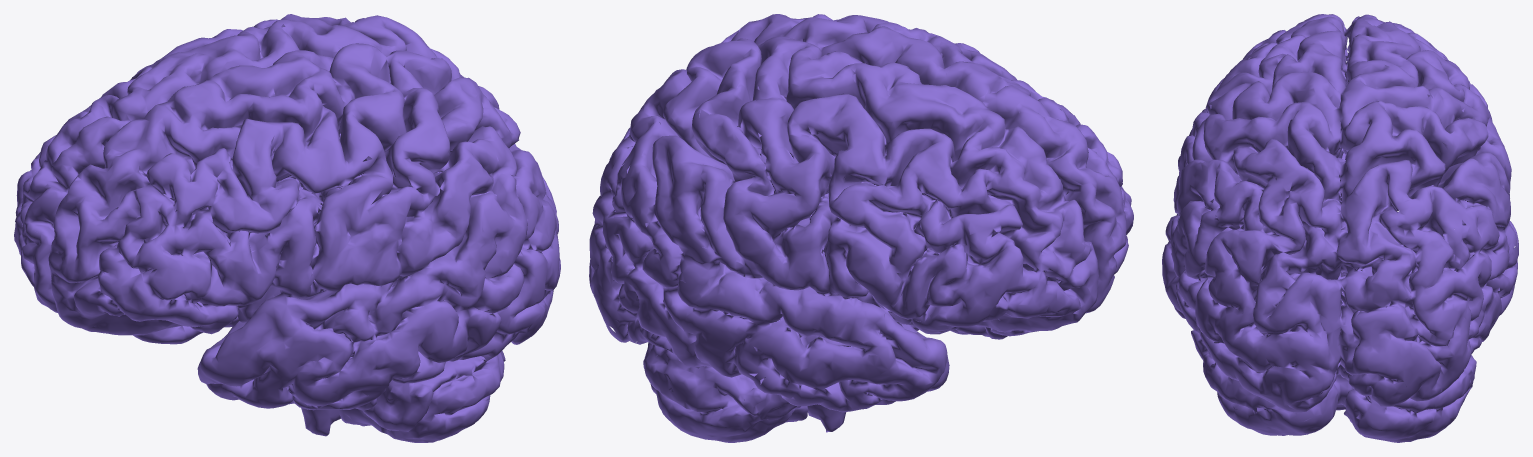
File: brain_low.glb
3 views of the same model, side by side, from view 1: azimuth 30°, elevation 25°; view 2: azimuth 150°, elevation 25°; view 3: azimuth 270°, elevation 25° (orthographic). The views are drawn at different scales.
Parts seen in each view (by area): view 1: Cerebral surface, cerebellum and stem; view 2: Cerebral surface, cerebellum and stem; view 3: Cerebral surface, cerebellum and stem.
Boxes of the visible parts, x1=… form: Cerebral surface, cerebellum and stem: x1=14, y1=14, x2=560, y2=442; Cerebral surface, cerebellum and stem: x1=589, y1=14, x2=1133, y2=442; Cerebral surface, cerebellum and stem: x1=1162, y1=14, x2=1518, y2=442.
Bounding box in the file's own units: 260 × 202 × 191.
